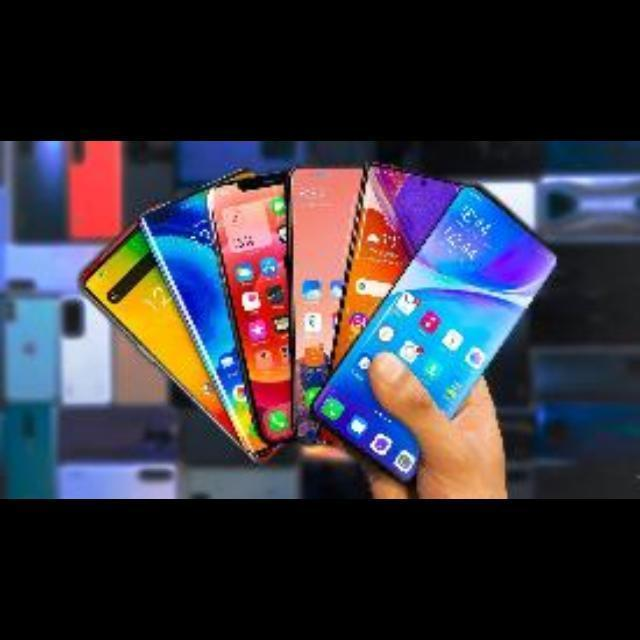phone: (306, 161, 584, 491)
